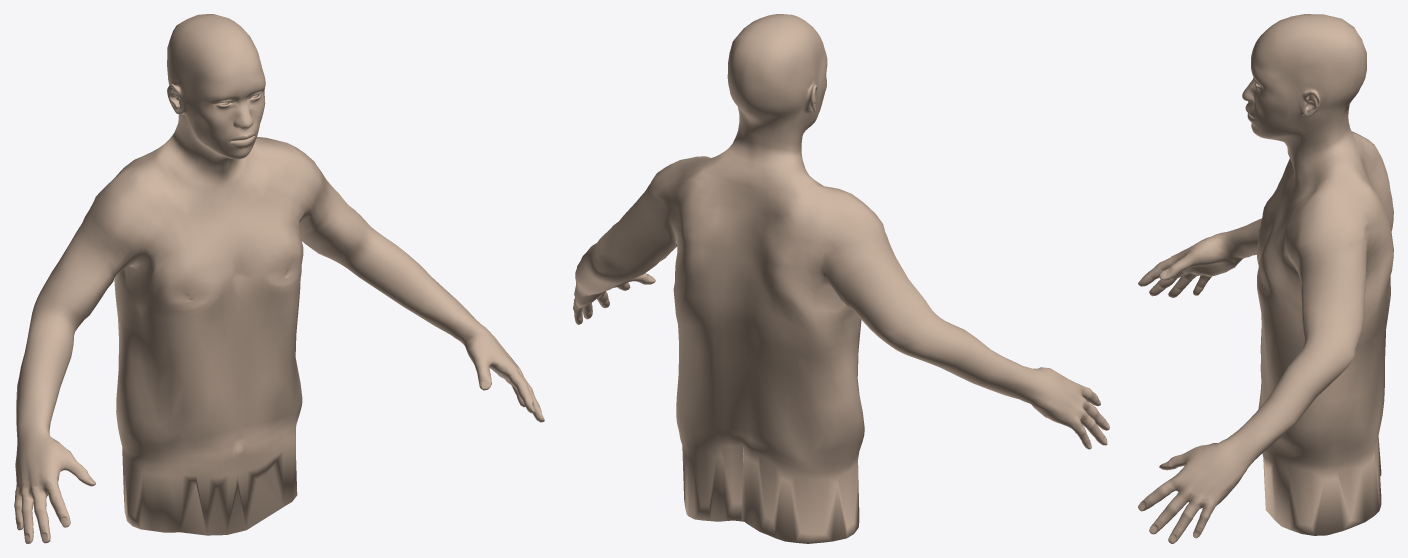
The model's file is fmodelskey.glb.
3 views of the same model, side by side, from view 1: azimuth 30°, elevation 25°; view 2: azimuth 150°, elevation 25°; view 3: azimuth 270°, elevation 25° (orthographic). The views are drawn at different scales.
Visible parts, largest first — view 1: Base; view 2: Base; view 3: Base.
Boxes of the visible parts, box(x1,y1,x2,y2) form: Base: box(14, 14, 544, 543); Base: box(573, 14, 1109, 543); Base: box(1138, 14, 1393, 543).
Size of the model in its own units: 9.07 by 8.3 by 3.95.
